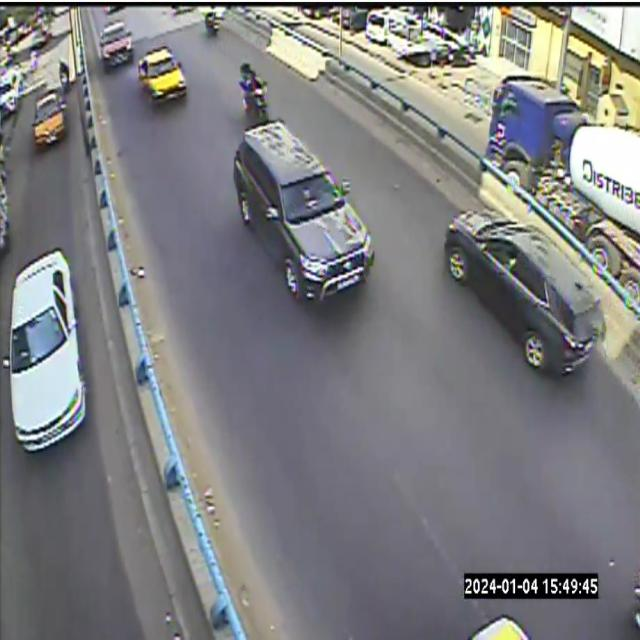car: (445, 209, 605, 374), (233, 120, 374, 300), (138, 46, 186, 101), (99, 21, 132, 70)
